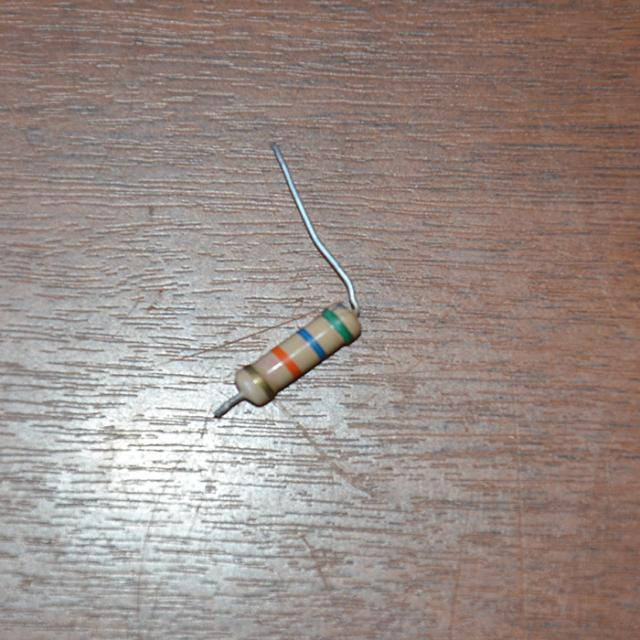blue: (298, 328, 326, 360)
gold: (243, 364, 274, 399)
green: (322, 310, 351, 342)
orange: (272, 346, 302, 379)
resistor: (223, 279, 385, 417)
